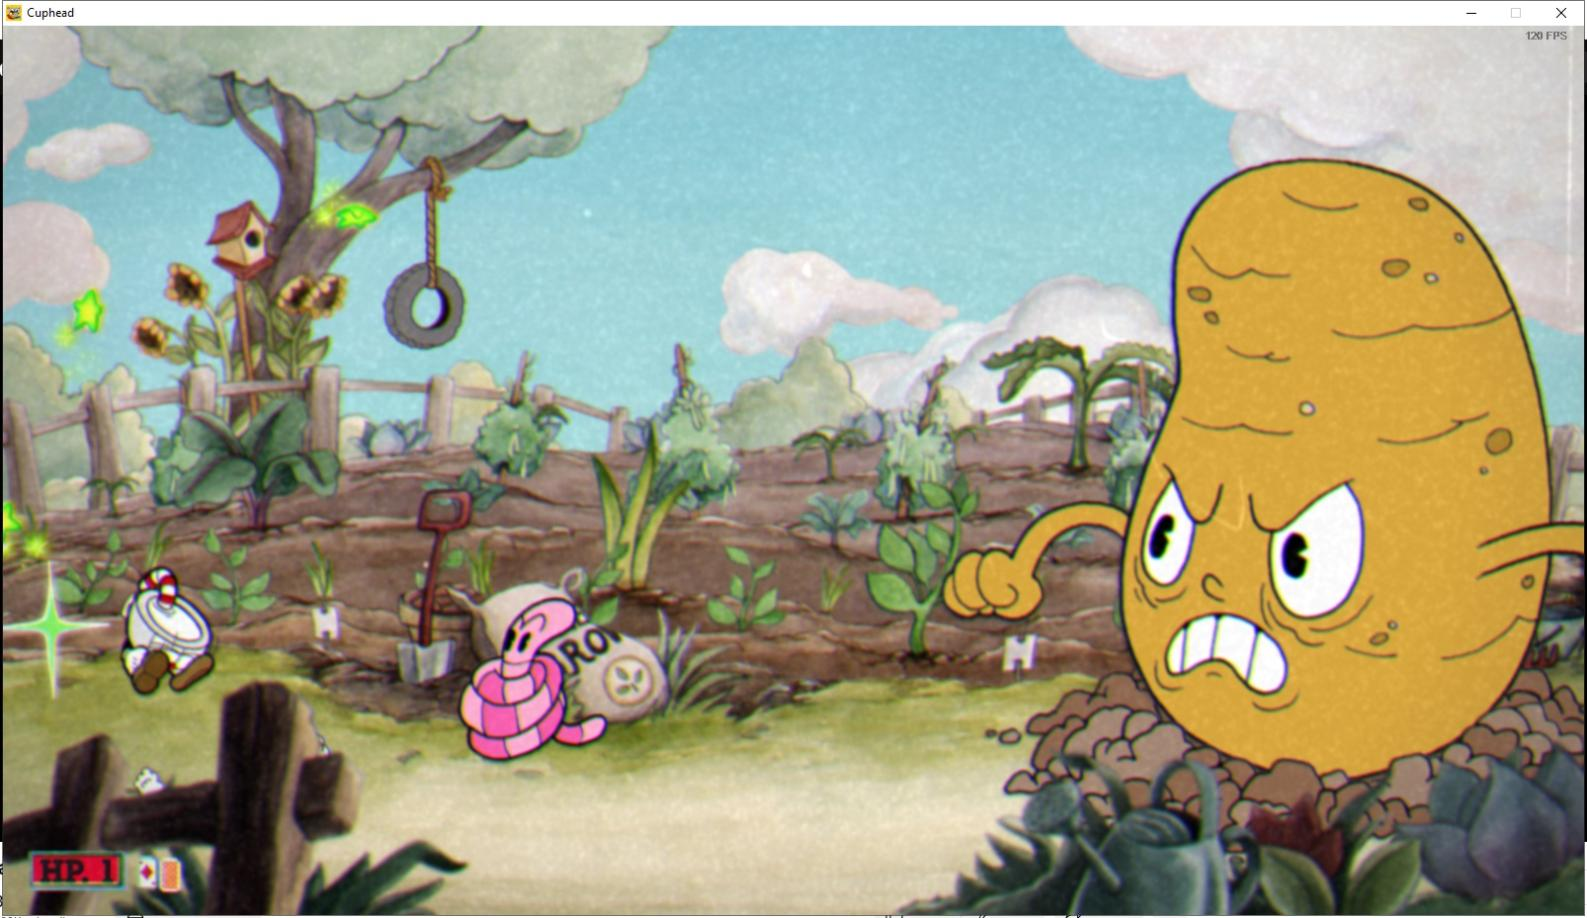hp1: (95, 853, 122, 888)
player: (114, 559, 222, 699)
potato_boss: (1101, 142, 1569, 802)
worm: (452, 589, 615, 769)
